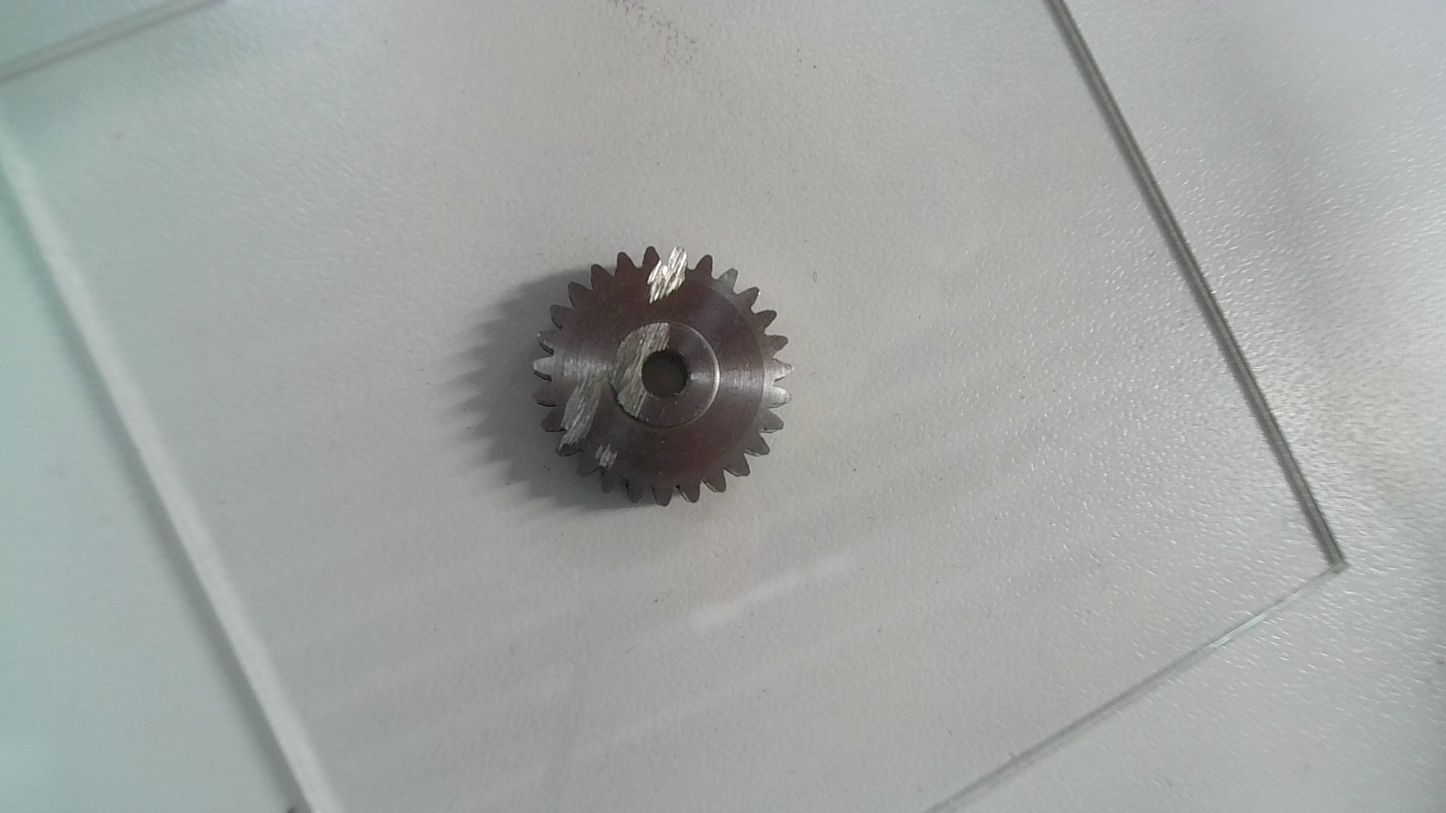gear: (529, 246, 790, 507)
